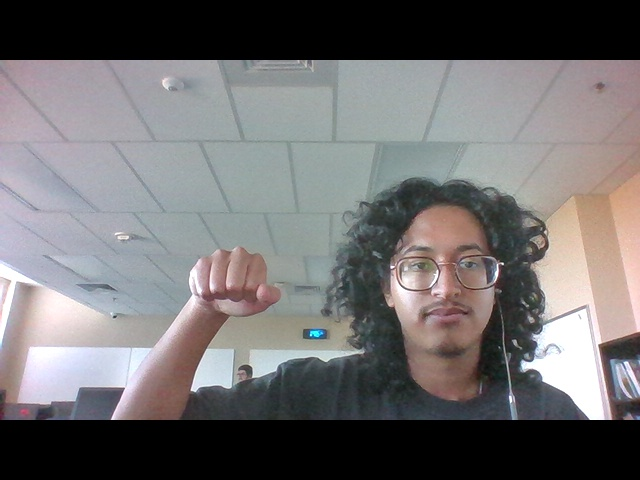yes: (177, 242, 289, 326)
